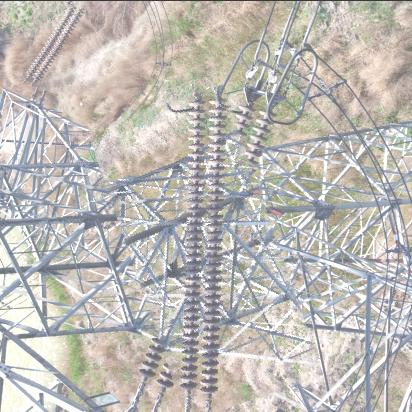insulator: (111, 92, 301, 412), (27, 1, 81, 93)
